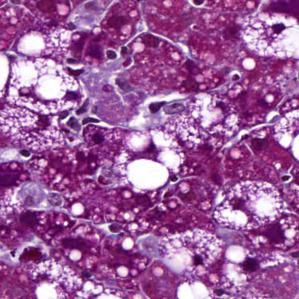ballooning: (5, 57, 89, 119), (214, 178, 285, 233), (239, 12, 296, 61)
